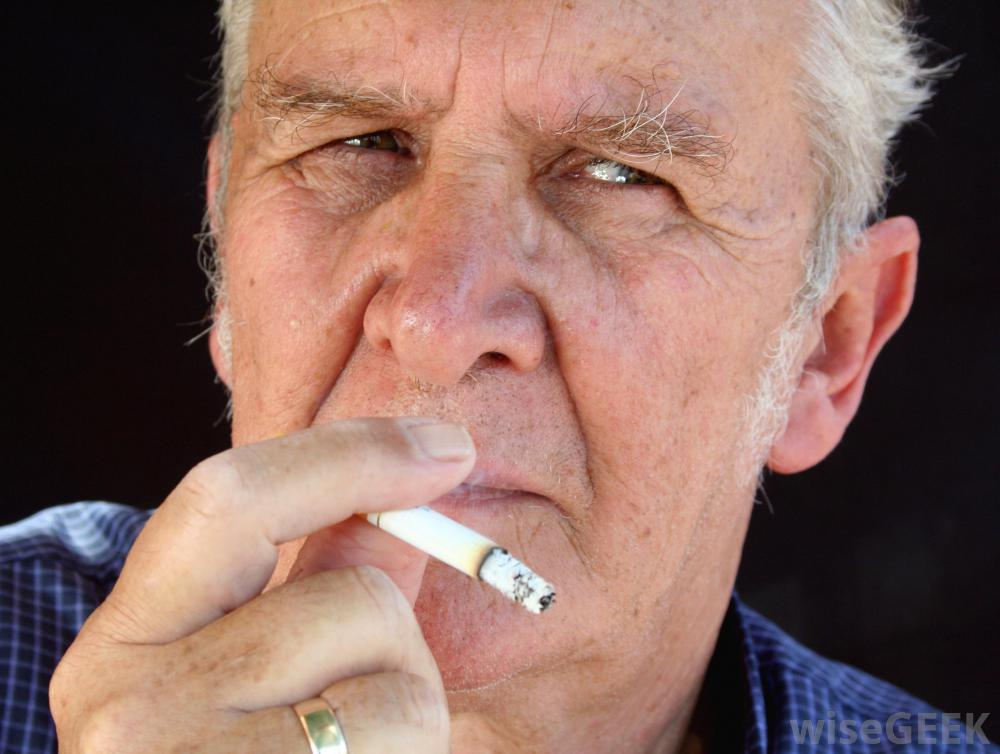cigarette: (346, 468, 560, 619)
